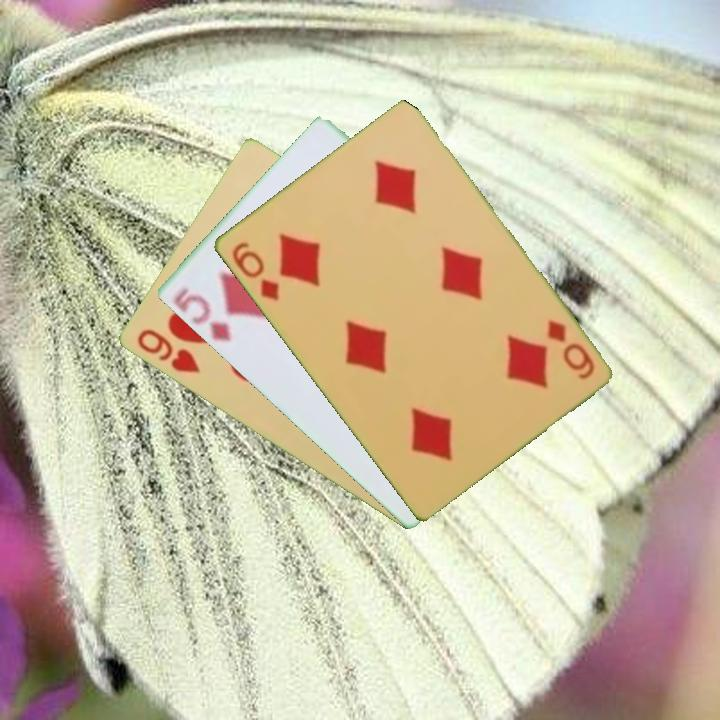5d: (169, 284, 233, 345)
6d: (227, 238, 282, 304), (543, 316, 597, 383)
9h: (133, 325, 203, 376)
